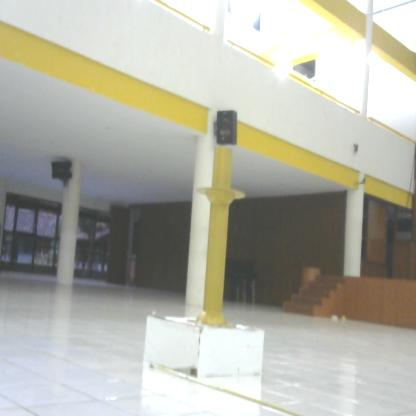pole: (184, 150, 249, 332)
